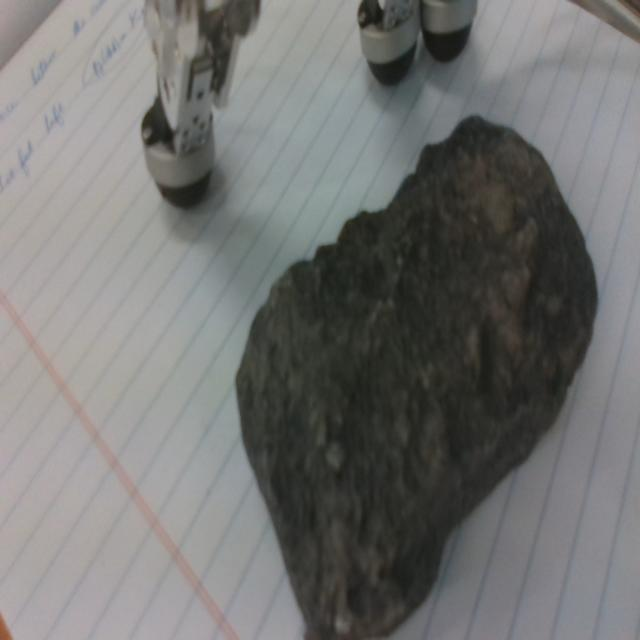stone: (235, 114, 598, 640)
